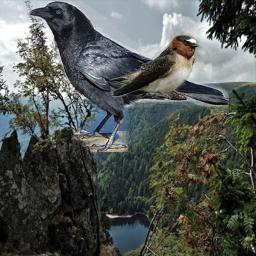Crow: (28, 1, 229, 152)
Swallow: (109, 32, 202, 101)
